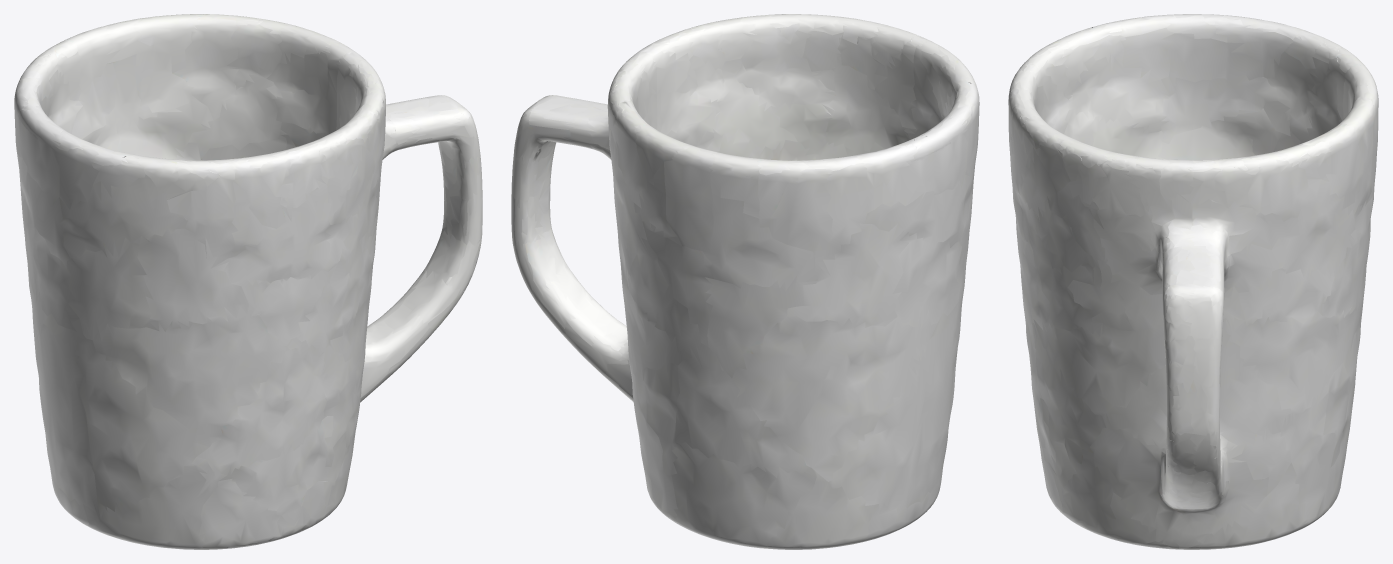
The model's file is kitchen-mug-07.glb.
3 renders of one model, left to right at view 1: azimuth 30°, elevation 25°; view 2: azimuth 150°, elevation 25°; view 3: azimuth 270°, elevation 25°, orthographic.
Size of the model in its own units: 1.9 by 1.69 by 1.4.
Materials: 1 (1 with a texture image).
